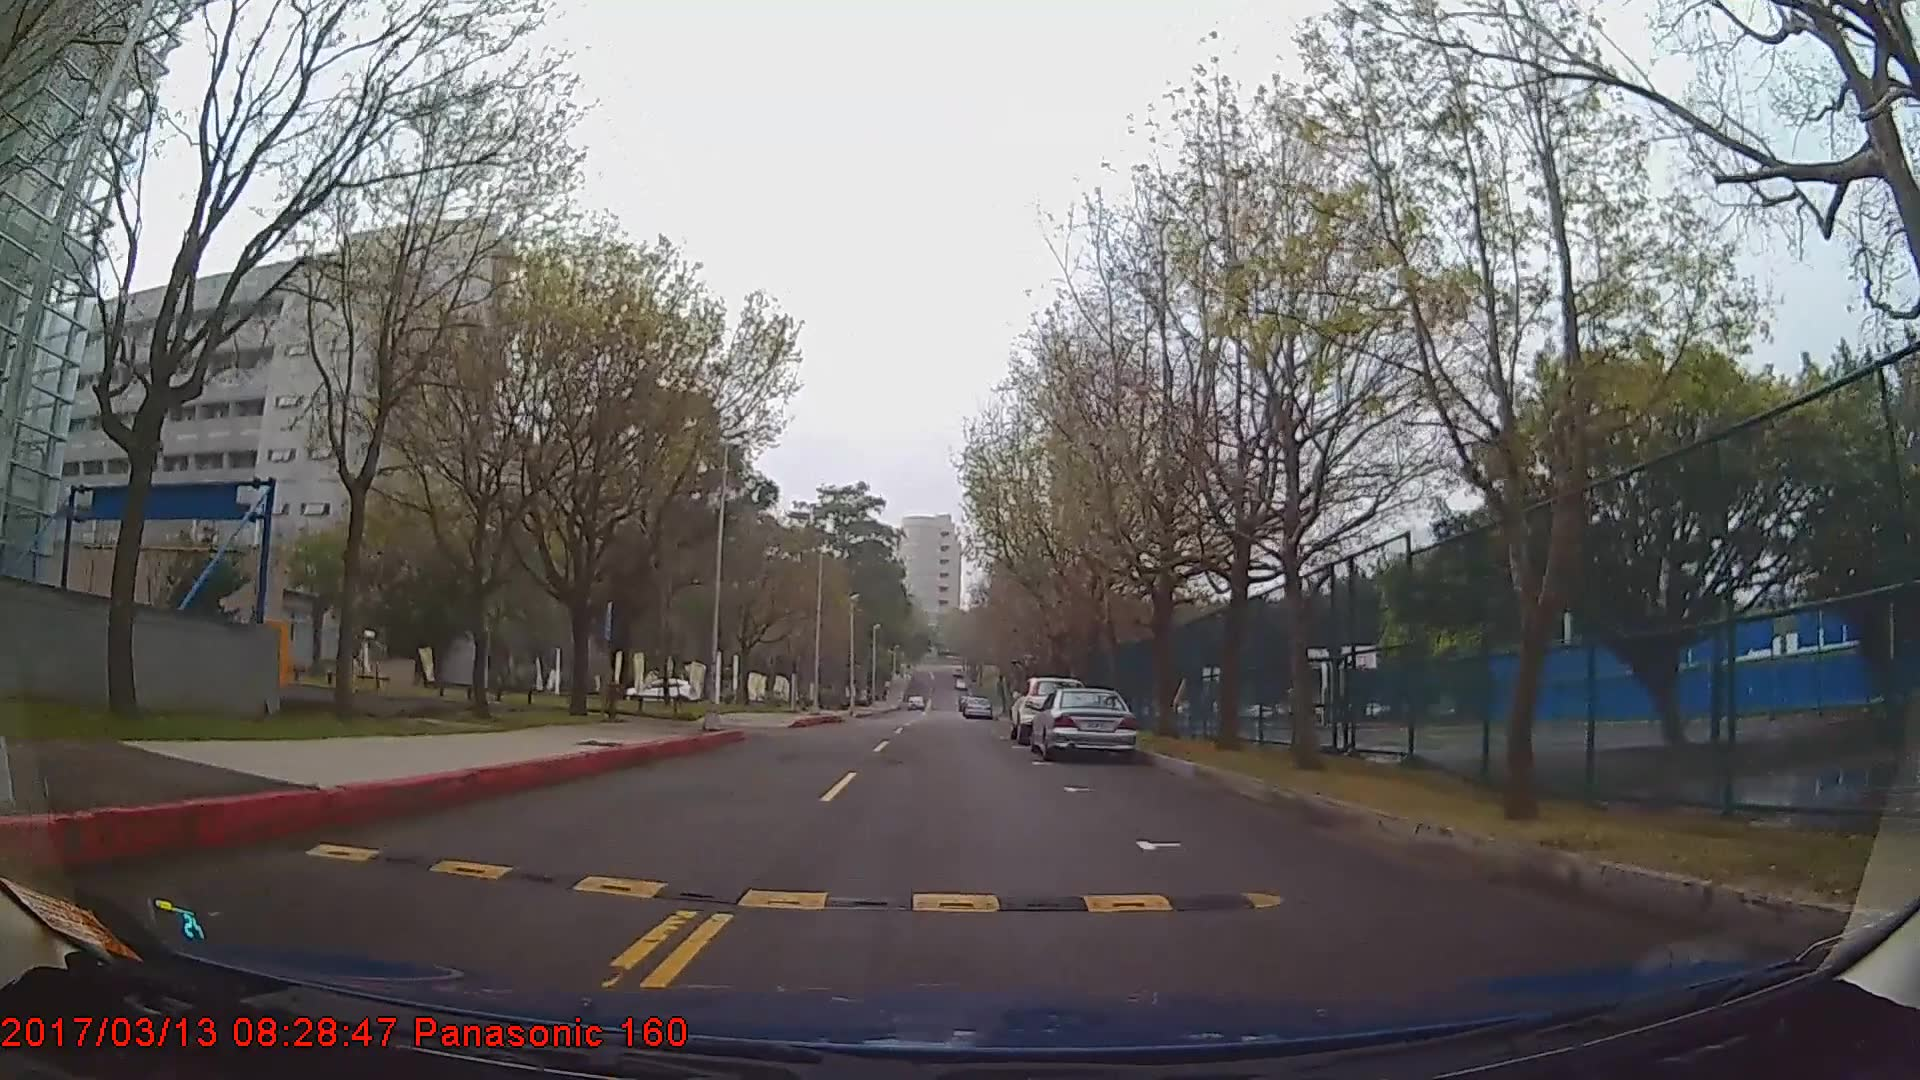vehicle: (1030, 684, 1139, 756), (1007, 676, 1084, 745), (960, 688, 992, 712)
